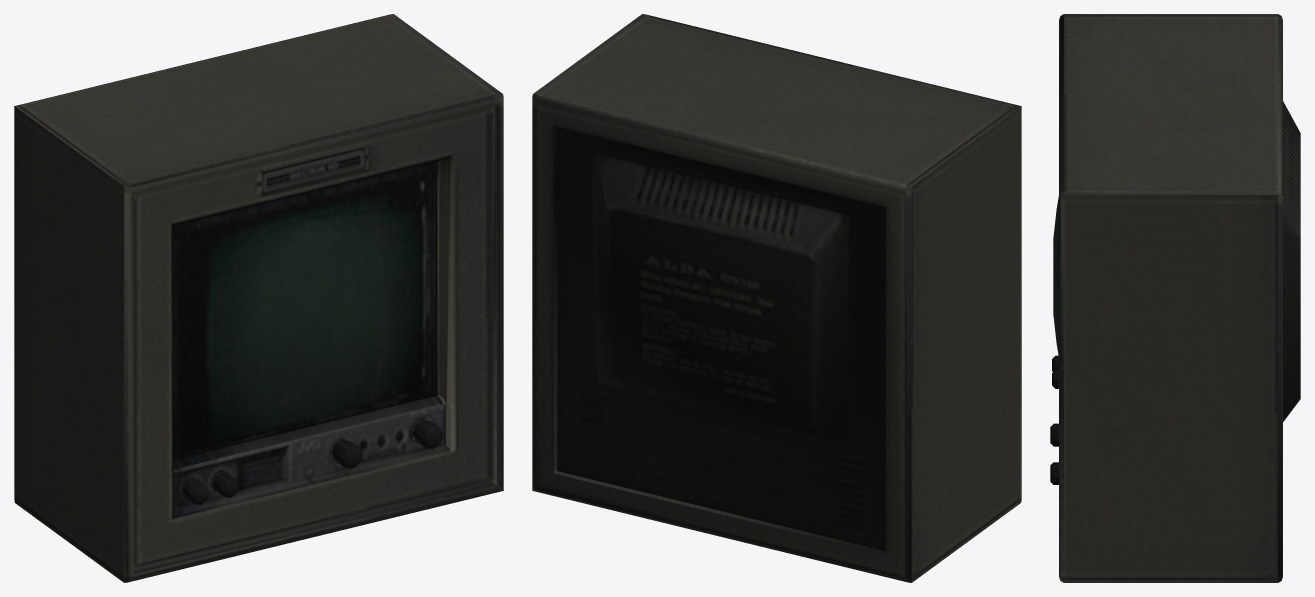
File: screen_1.obj
3 views of the same model, side by side, from view 1: azimuth 30°, elevation 25°; view 2: azimuth 150°, elevation 25°; view 3: azimuth 270°, elevation 25° (orthographic). The views are drawn at different scales.
Parts seen in each view (by area): view 1: screen_1; view 2: screen_1; view 3: screen_1.
Part boxes in pixels (left/top/right/bottom): screen_1: left=14, top=14, right=503, bottom=582; screen_1: left=532, top=14, right=1021, bottom=582; screen_1: left=1050, top=14, right=1300, bottom=582.
Size of the model in its own units: 0.63 by 0.63 by 0.3688.
